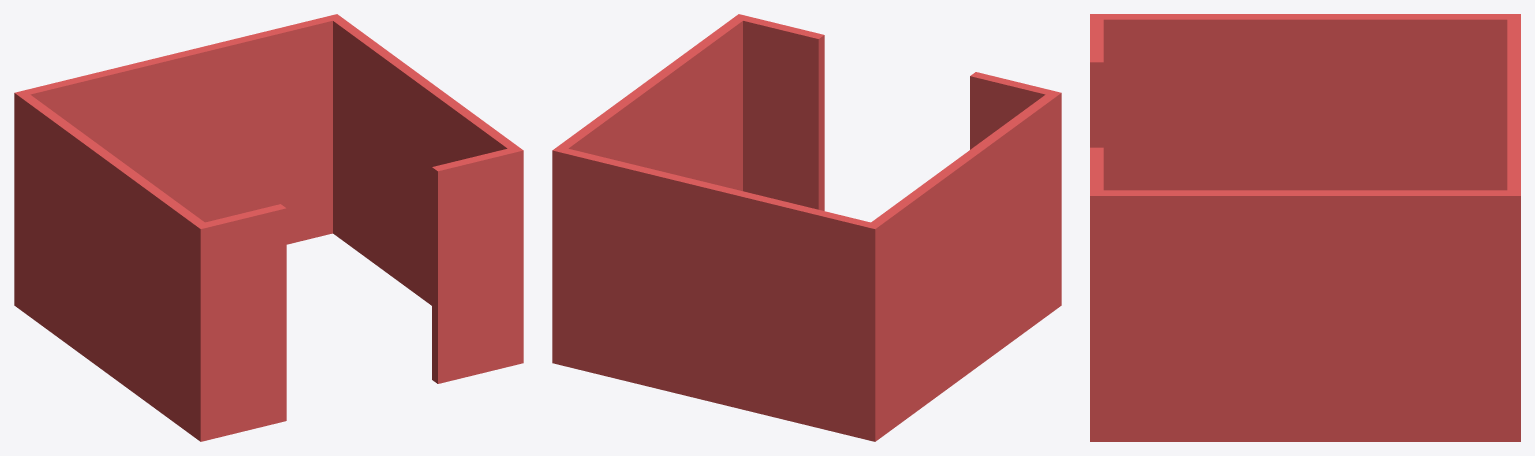
File: Room_Inner.fbx
3 views of the same model, side by side, from view 1: azimuth 30°, elevation 25°; view 2: azimuth 150°, elevation 25°; view 3: azimuth 270°, elevation 25° (orthographic). The views are drawn at different scales.
Parts seen in each view (by area): view 1: RoomRed; view 2: RoomRed; view 3: RoomRed.
Part boxes in pixels (x1=…): RoomRed: x1=14, y1=14, x2=523, y2=441; RoomRed: x1=552, y1=14, x2=1061, y2=441; RoomRed: x1=1090, y1=14, x2=1520, y2=441.
Bounding box in the file's own units: 320 × 201 × 320.
